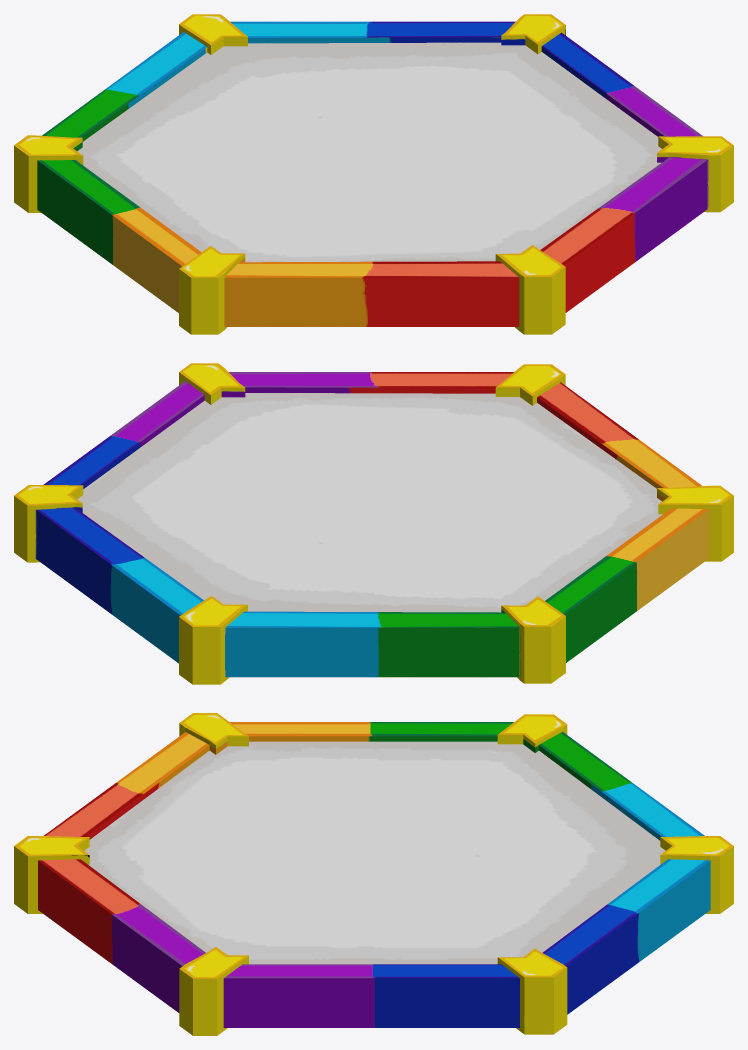
File: Tazo.fbx
3 renders of one model, top to bottom at view 1: azimuth 30°, elevation 25°; view 2: azimuth 150°, elevation 25°; view 3: azimuth 270°, elevation 25°, orthographic.
Visible parts, largest first — view 1: Disco; view 2: Disco; view 3: Disco.
Part boxes in pixels (x1,y1,x2,y2): Disco: [14, 14, 733, 334]; Disco: [14, 363, 733, 684]; Disco: [14, 713, 733, 1035].
Size of the model in its own units: 87.37 by 8.89 by 100.
